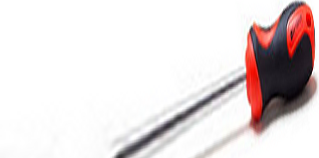Screwdriver: (99, 2, 316, 158)
